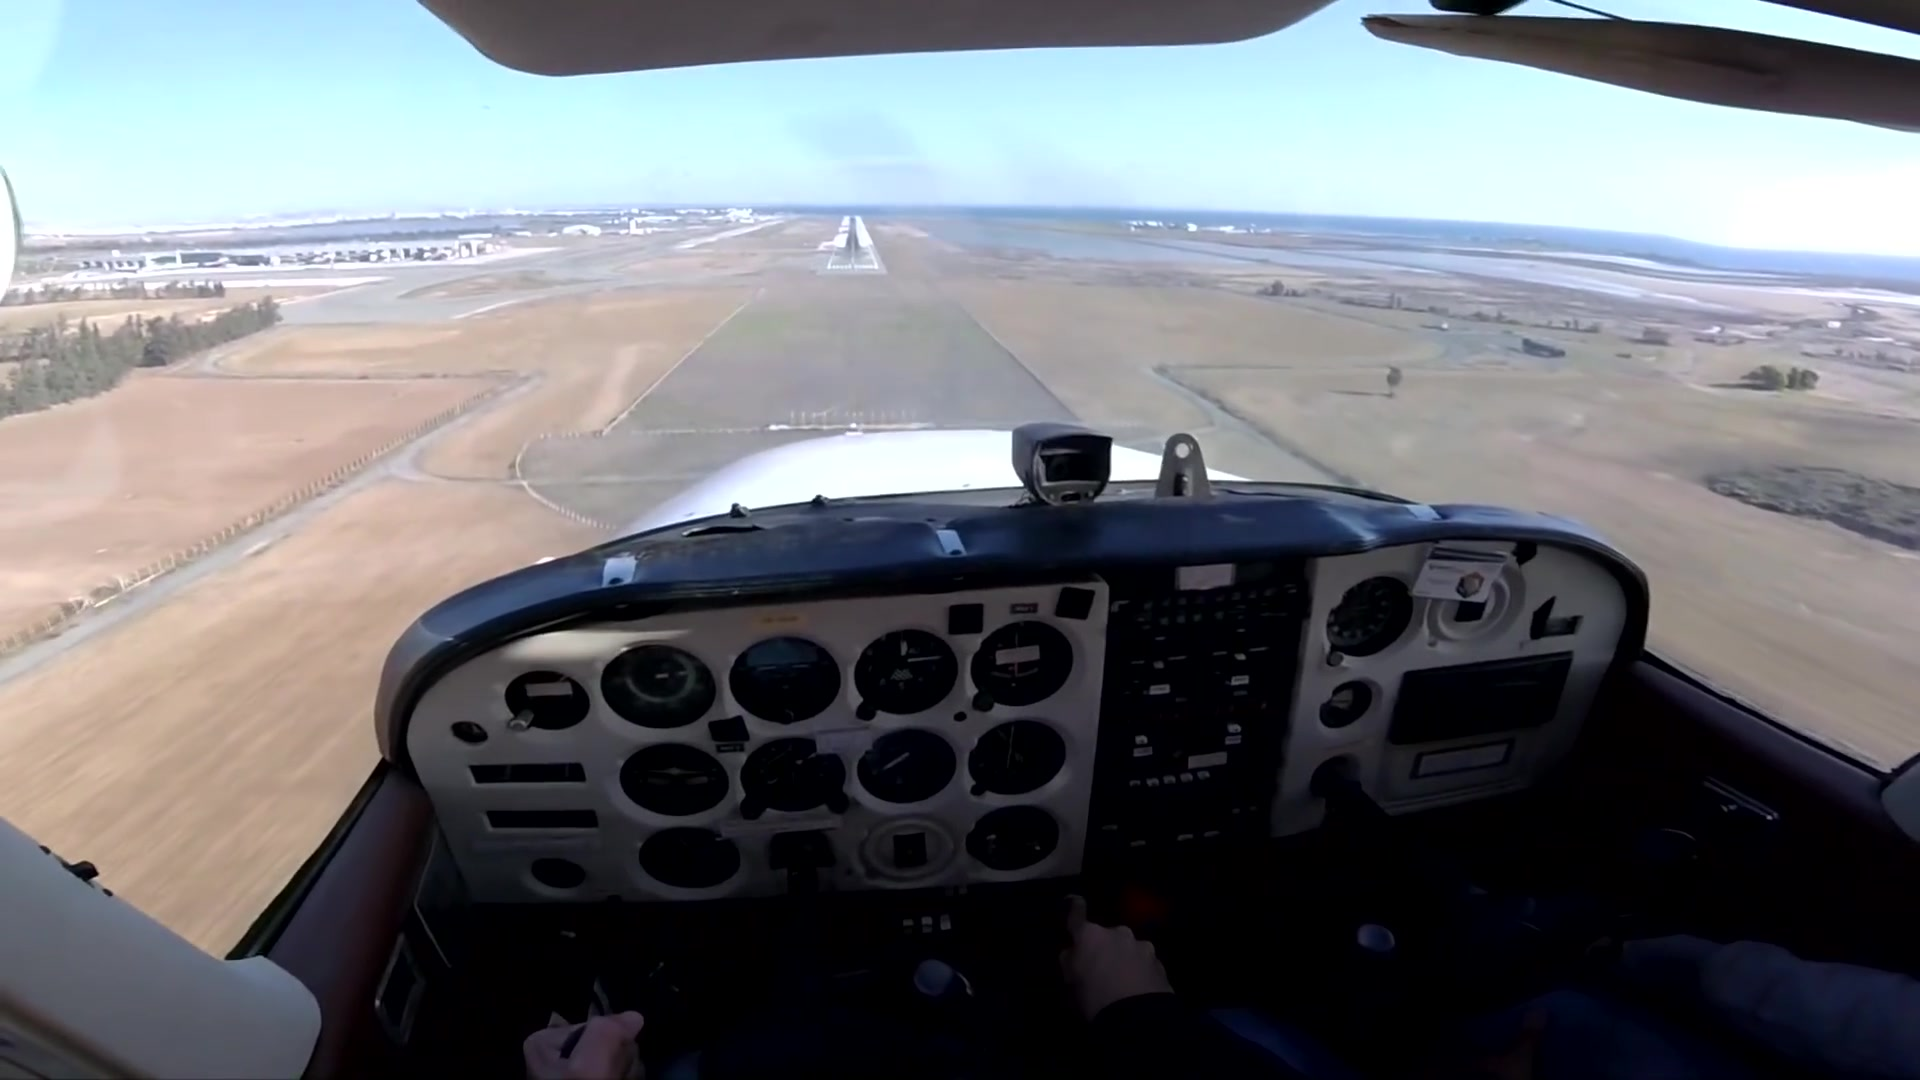entrance: (831, 264, 878, 269)
runway: (819, 216, 887, 274)
